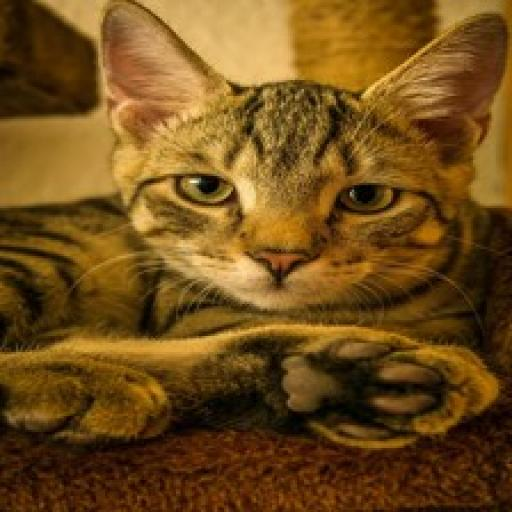cat: (0, 8, 510, 454)
